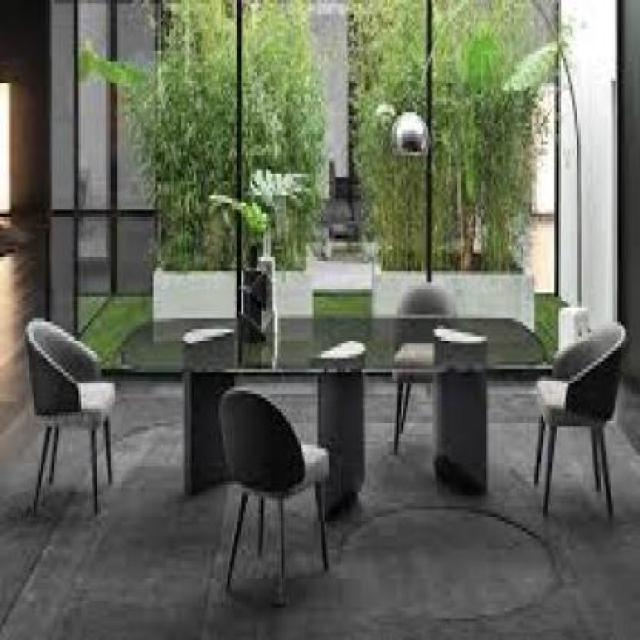tables: (103, 315, 552, 508)
